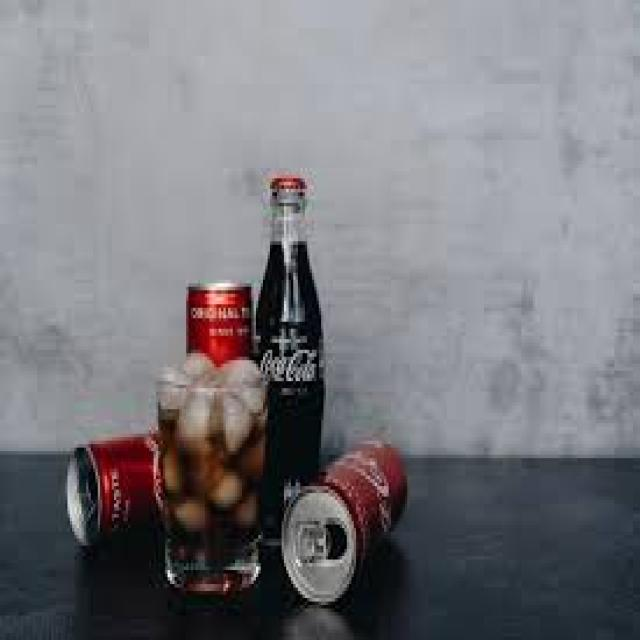Cans: (277, 434, 412, 602)
